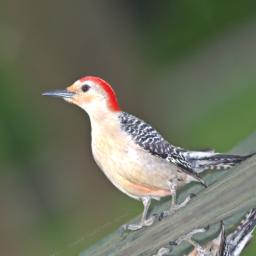Woodpecker: (37, 5, 256, 251)
